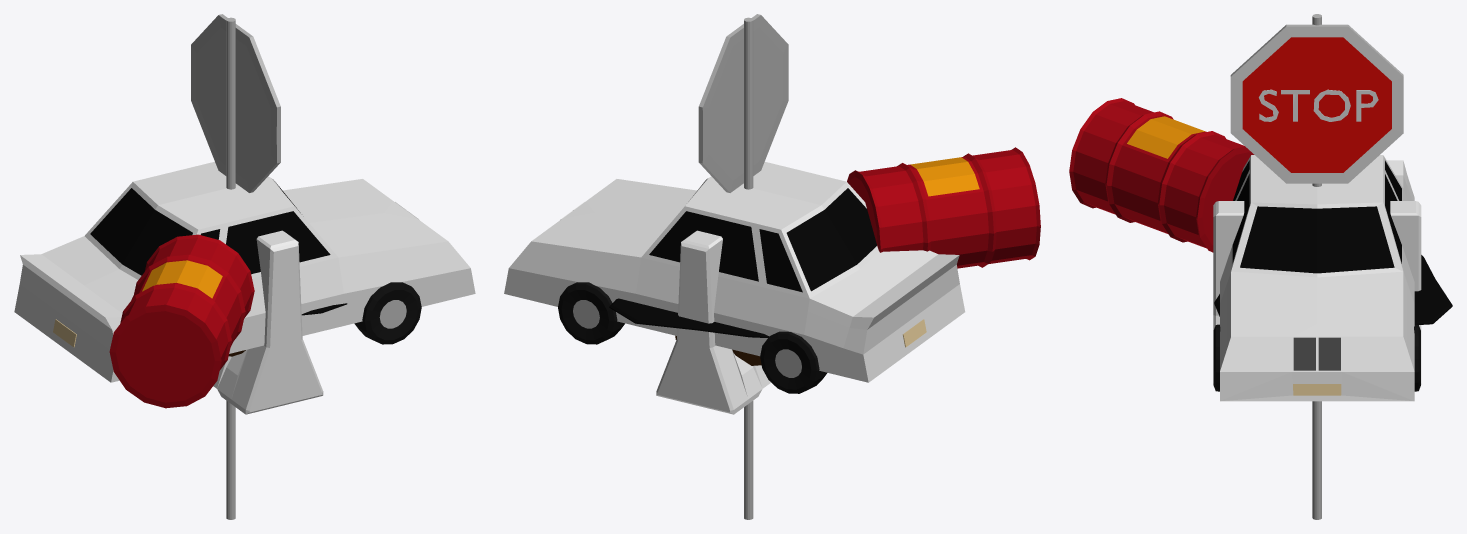
The model's file is Car.fbx.
3 renders of one model, left to right at view 1: azimuth 30°, elevation 25°; view 2: azimuth 150°, elevation 25°; view 3: azimuth 270°, elevation 25°, orthographic.
Parts seen in each view (by area): view 1: Car, Oil Spill, Stop Sign, Barrier; view 2: Car, Oil Spill, Stop Sign, Barrier; view 3: Car, Stop Sign, Oil Spill, Barrier.
Boxes of the visible parts, x1,y1,x2,y2 form: Car: [14, 161, 475, 382]; Oil Spill: [109, 234, 347, 408]; Stop Sign: [191, 14, 280, 519]; Barrier: [213, 230, 323, 414]; Car: [504, 162, 965, 393]; Oil Spill: [609, 147, 1040, 337]; Stop Sign: [698, 14, 788, 519]; Barrier: [656, 230, 770, 414]; Car: [1213, 155, 1420, 401]; Stop Sign: [1230, 14, 1403, 519]; Oil Spill: [1069, 98, 1452, 324]; Barrier: [1213, 201, 1421, 384].
Size of the model in its own units: 544 by 643 by 445.
